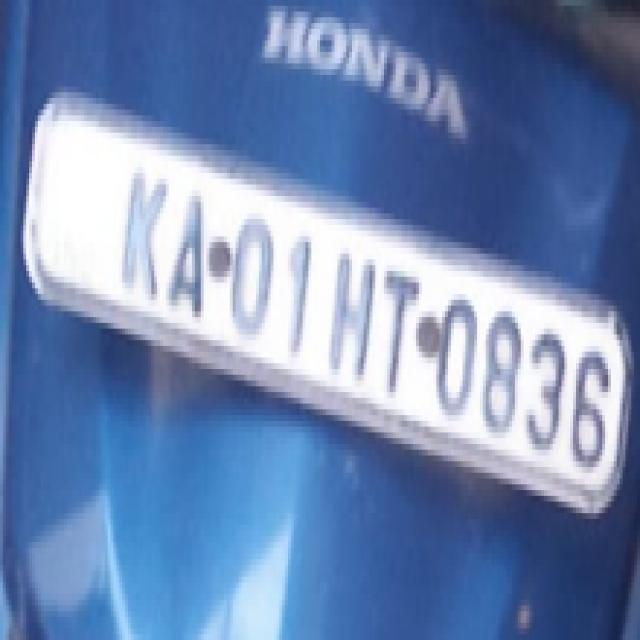0: (222, 200, 281, 348), (429, 275, 485, 429)
1: (273, 222, 319, 364)
3: (520, 320, 572, 465)
6: (564, 336, 620, 483)
8: (475, 297, 527, 441)
A: (159, 173, 216, 329)
H: (321, 232, 382, 391)
K: (108, 146, 173, 315)
T: (368, 256, 424, 405)
